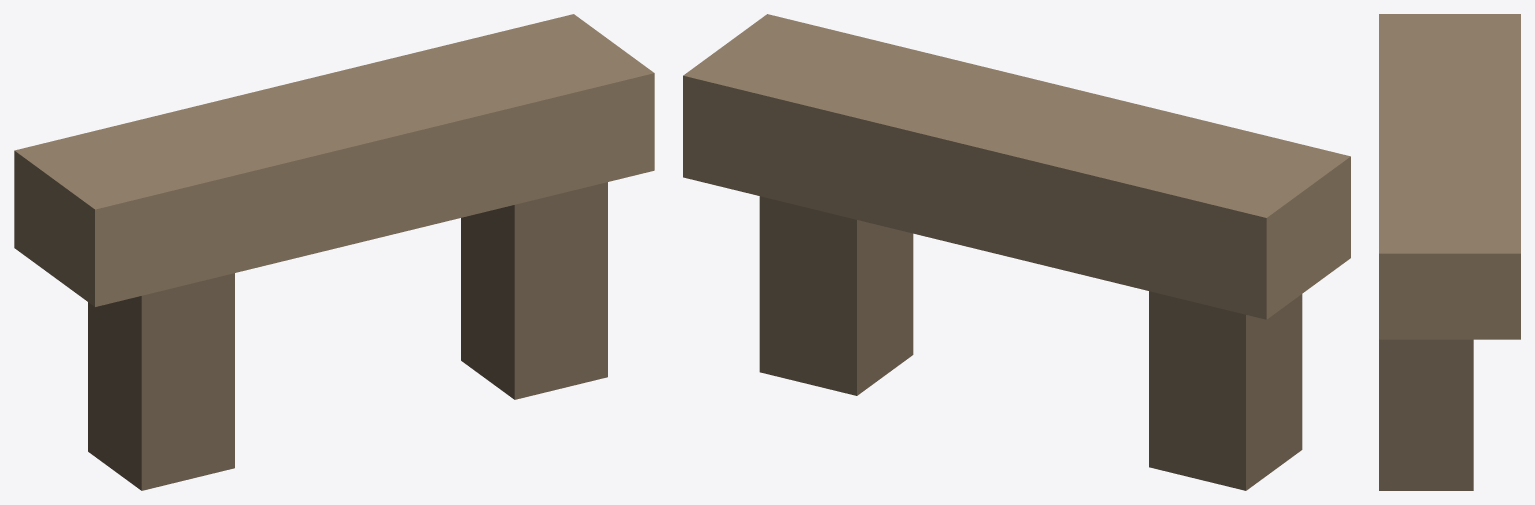
File: balda_01.glb
3 views of the same model, side by side, from view 1: azimuth 30°, elevation 25°; view 2: azimuth 150°, elevation 25°; view 3: azimuth 270°, elevation 25° (orthographic). The views are drawn at different scales.
Visible parts, largest first — view 1: balda; view 2: balda; view 3: balda.
Part boxes in pixels (x1,y1,x2,y2): balda: (14, 14, 654, 490); balda: (683, 14, 1350, 490); balda: (1379, 14, 1520, 490).
Bounding box in the file's own units: 0.9231 × 0.4615 × 0.2308.
